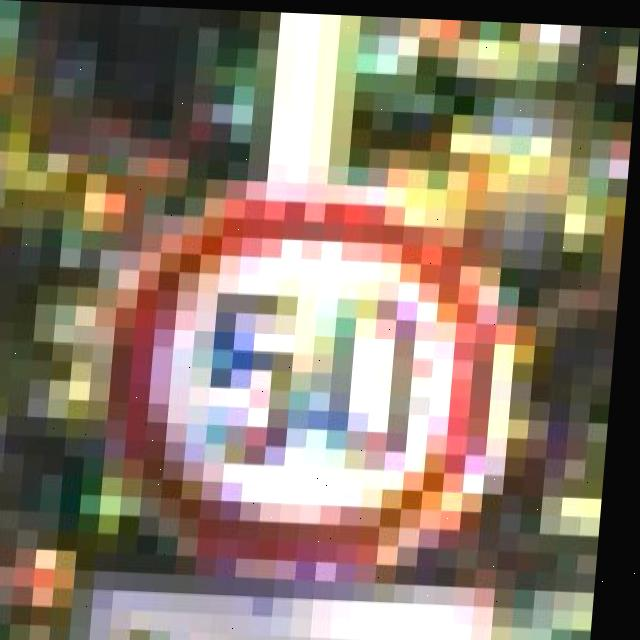Speed limit 50: (105, 173, 530, 587)
